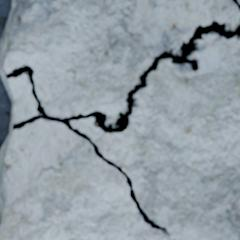brick: (0, 34, 239, 239), (0, 0, 239, 123)
crack: (0, 16, 239, 238), (232, 0, 239, 11)
